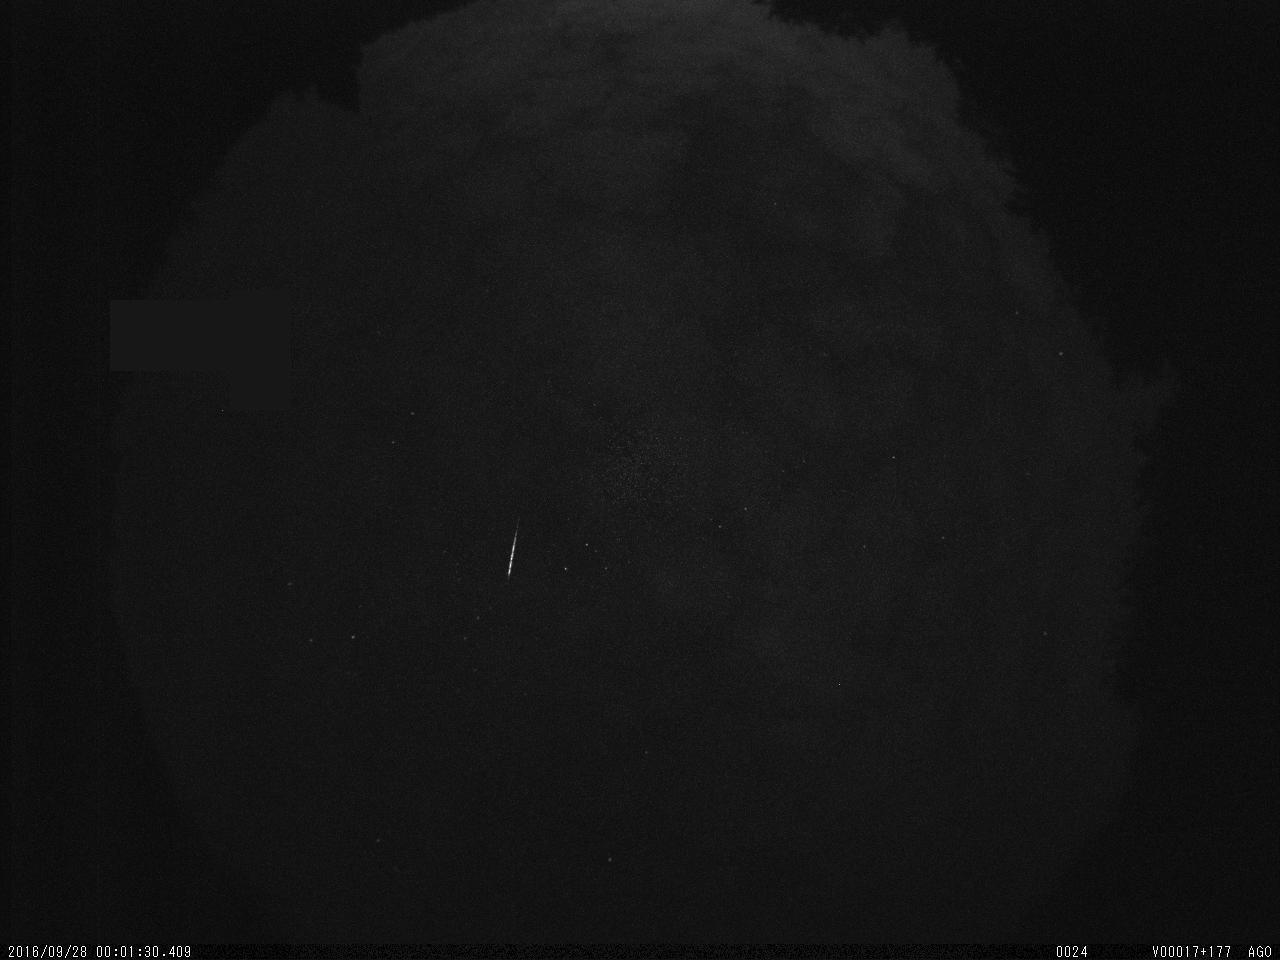Meteor: (504, 515, 522, 576)
